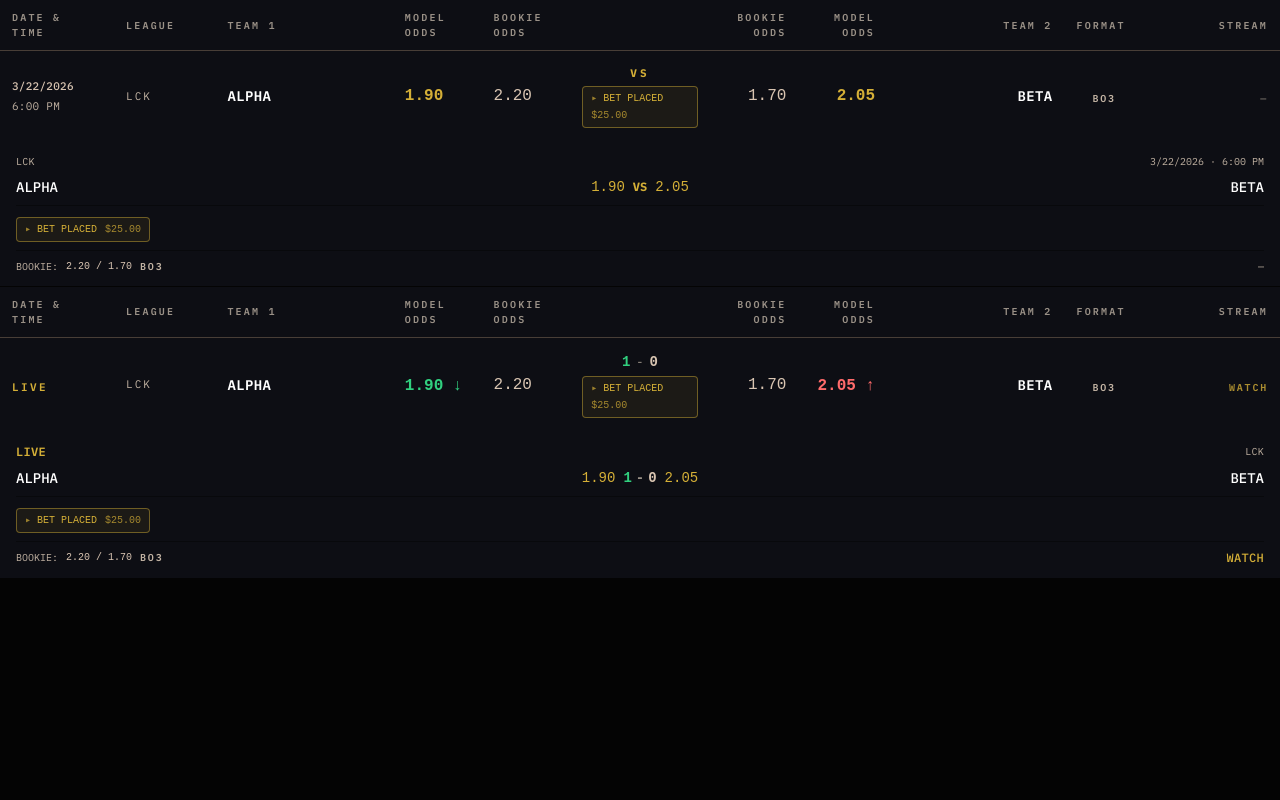
it: odds rendering consistency › renders team 2 bet details as match-level status in upcoming and live views
The image size is (1280, 800).
Click the 1st button "▸ BET PLACED $25.00".
click(640, 106)  # box x1=582 y1=86 x2=698 y2=128
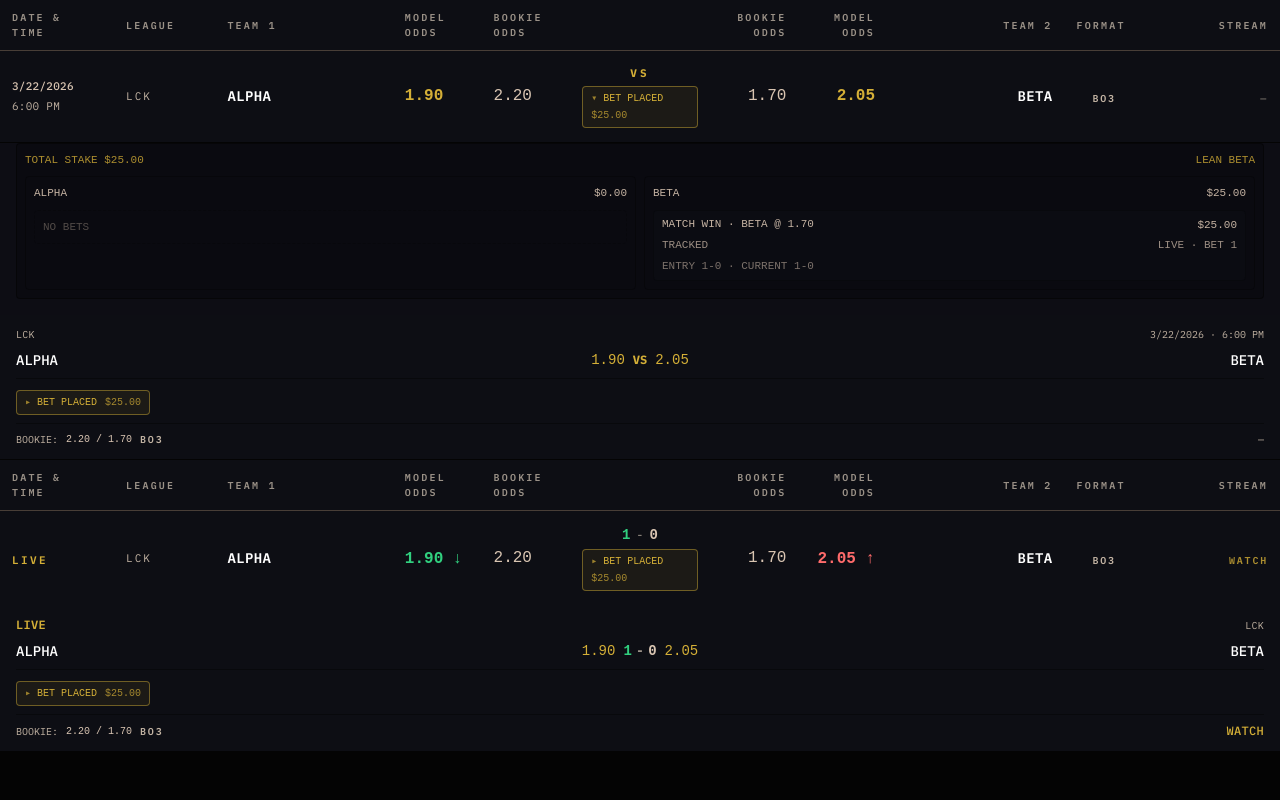
Expected: the 1st text "$25.00" is shown, x1=591 y1=110 x2=627 y2=120
Expected: the text "MATCH WIN · BETA @ 1.70" is shown, x1=662 y1=216 x2=814 y2=232
Expected: the text "No bets" is shown, x1=34 y1=210 x2=627 y2=244
